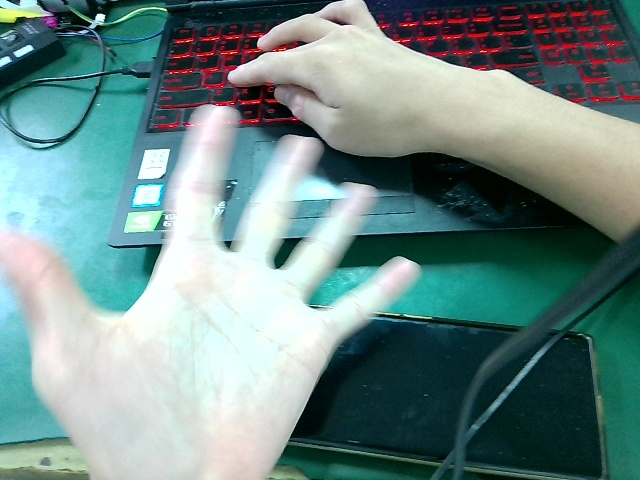paper: (2, 99, 423, 480)
